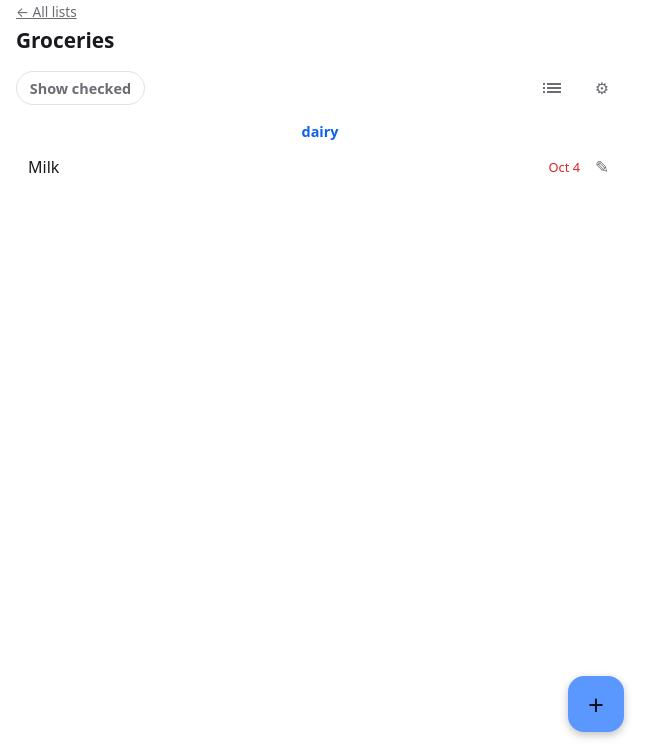
Test: ListPropsPage duplicate list (T-63) › pushes a solo-owned copy of the list and its non-deleted items, then navigates to it
The image size is (645, 752).
Expected: the link "Groceries" is shown, [16,26,114,54]
What coordinates should you click on to do the following:
click the link named "List properties"
I would click on:
 (602, 88)
Its box is [595,77,609,99].
(page scrolled)
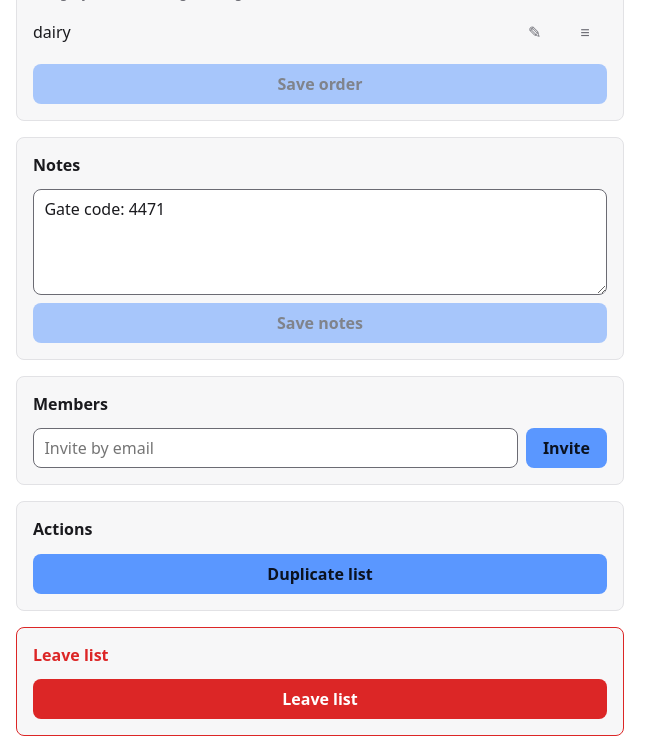
Expected: the button "Duplicate list" is shown
What coordinates should you click on to do the following:
click the button "Duplicate list"
I would click on:
 (320, 574)
Its box is [33,554,607,594].
(page scrolled)
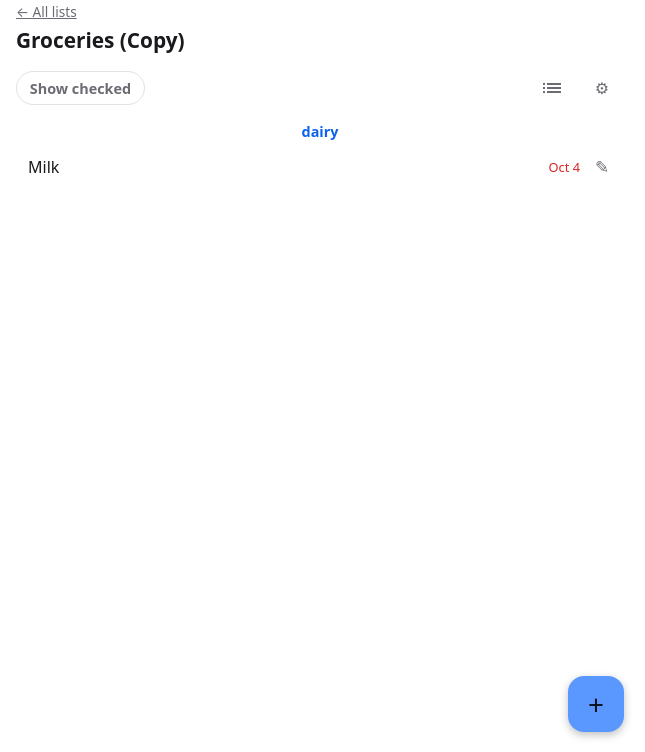
Expected: the link "Groceries (Copy)" is shown, [16,26,185,54]
